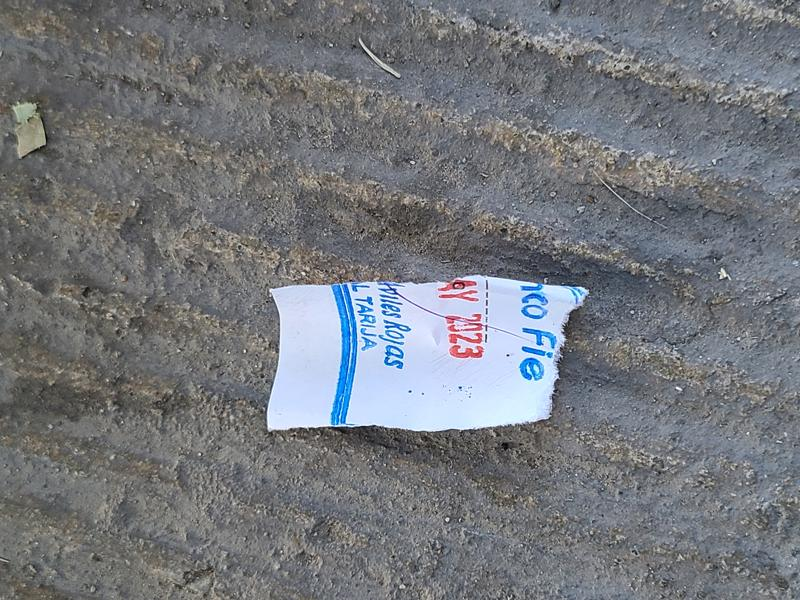papel: (266, 275, 588, 434)
